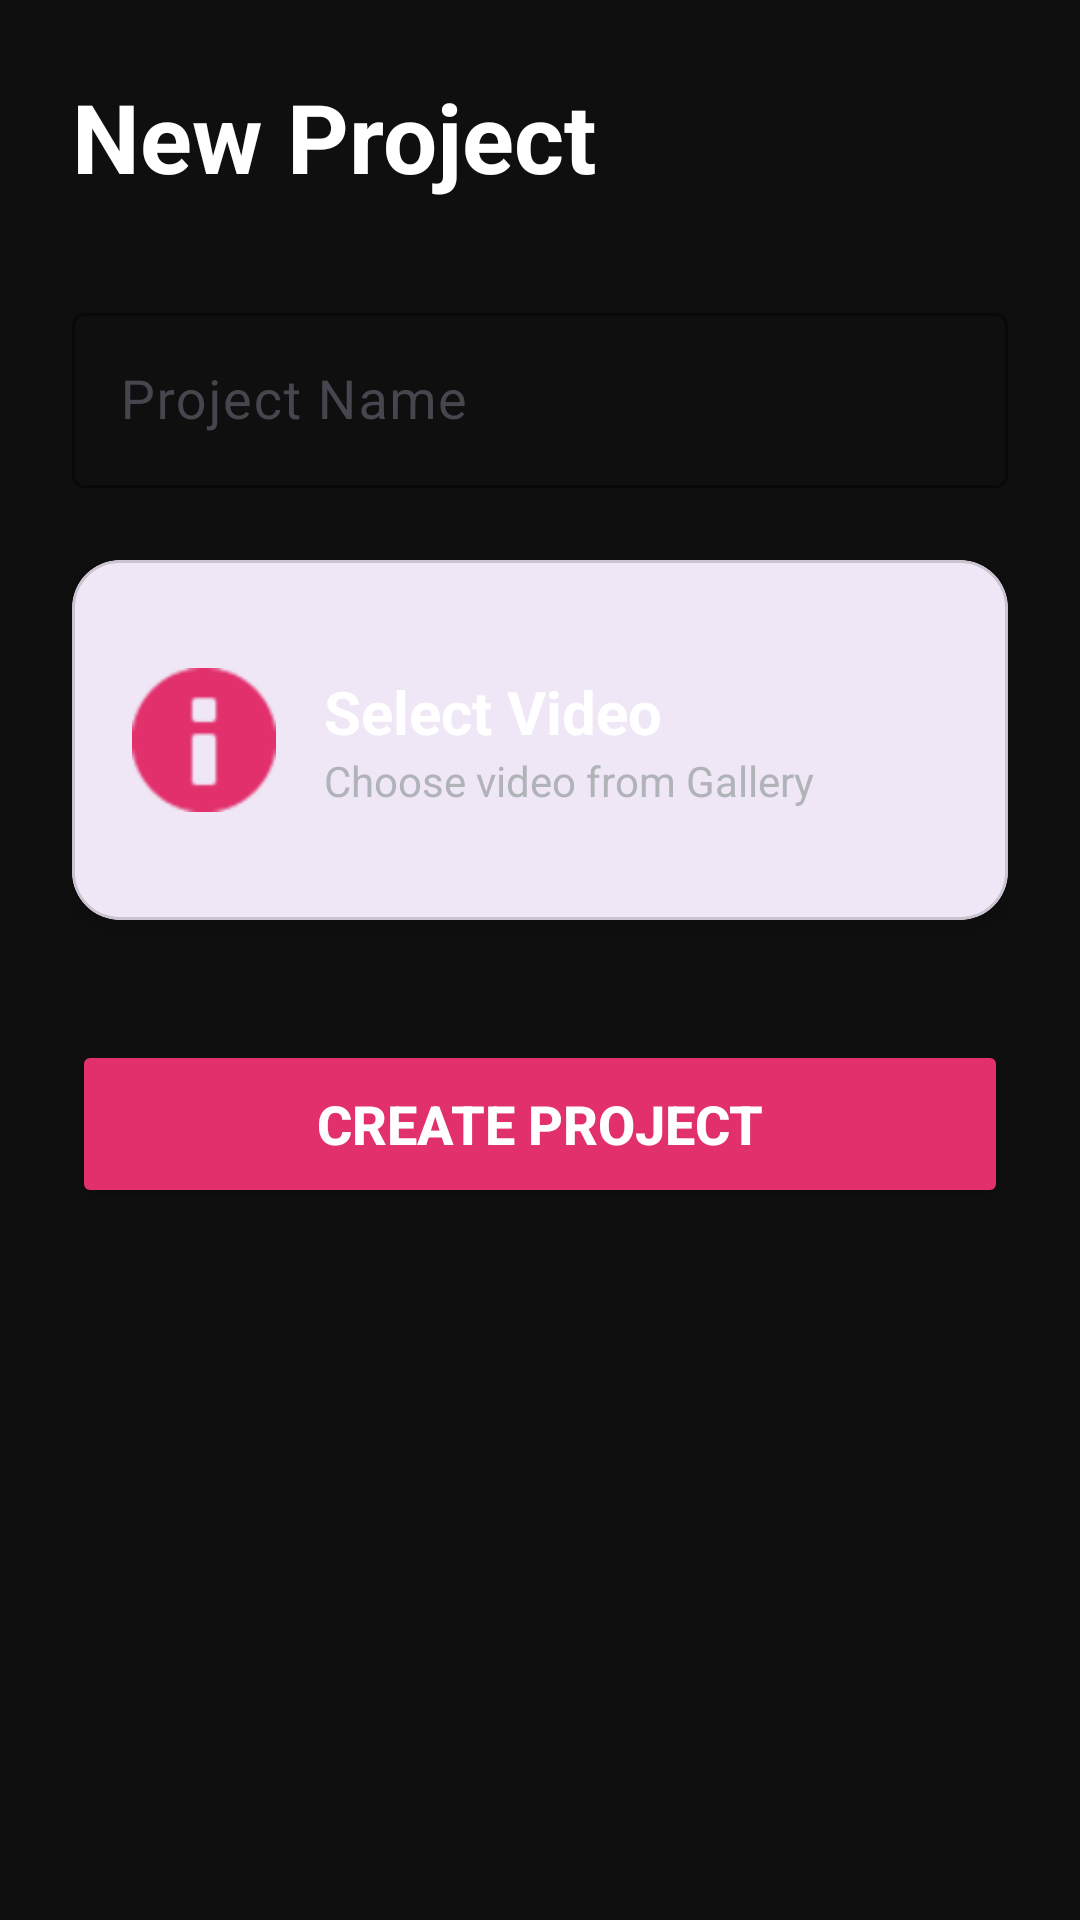

Screen size 1080x1920. Icon name, then its center in pixels as (x=x, y=y):
info: (x=204, y=740)
